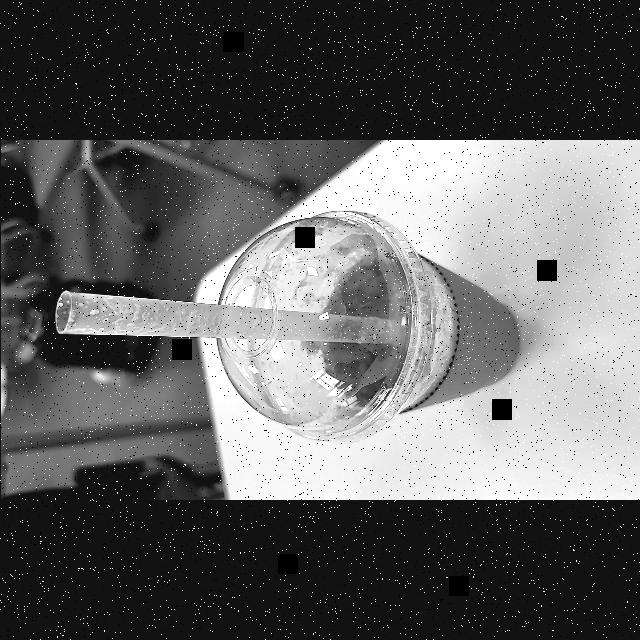plastic_cup: (211, 210, 525, 446)
plastic_cup_lid: (212, 207, 432, 447)
straw: (57, 292, 403, 342)
